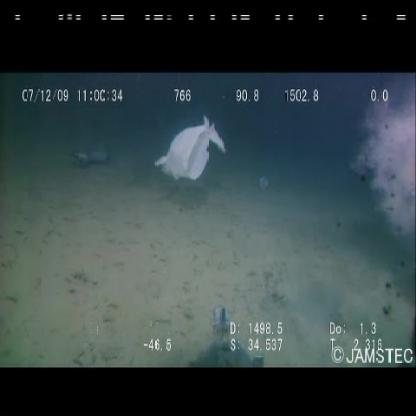Rác: (154, 112, 228, 188)
